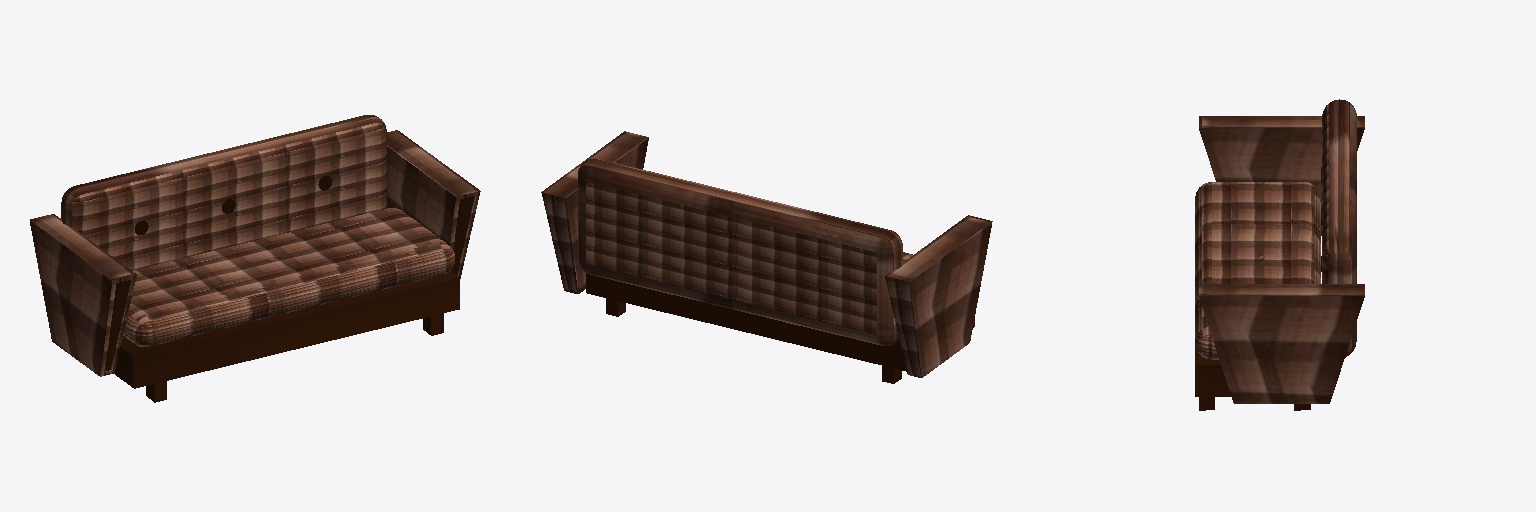
3 renders of one model, left to right at view 1: azimuth 30°, elevation 25°; view 2: azimuth 150°, elevation 25°; view 3: azimuth 270°, elevation 25°, orthographic.
Parts seen in each view (by area): view 1: Sillon; view 2: Sillon; view 3: Sillon.
Boxes of the visible parts, <box> form: Sillon: <box>30,115,480,402</box>; Sillon: <box>541,131,992,383</box>; Sillon: <box>1195,99,1364,410</box>.
Size of the model in its own units: 7.91 by 3.41 by 3.17.
5 materials, 2 textured.